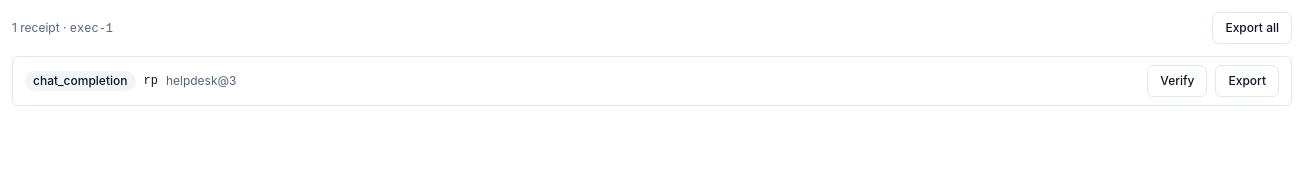
Test: ReceiptsPanel › verify flow shows signature + inclusion badges
What coordinates should you click on to do the following:
click the button "Verify"
I would click on:
 (1177, 81)
Its box is left=1147, top=65, right=1207, bottom=97.
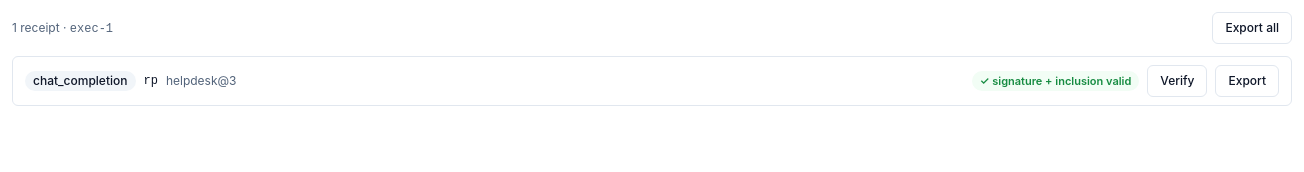
Check: the text "✓ signature + inclusion valid" is shown, box left=972, top=71, right=1139, bottom=91
